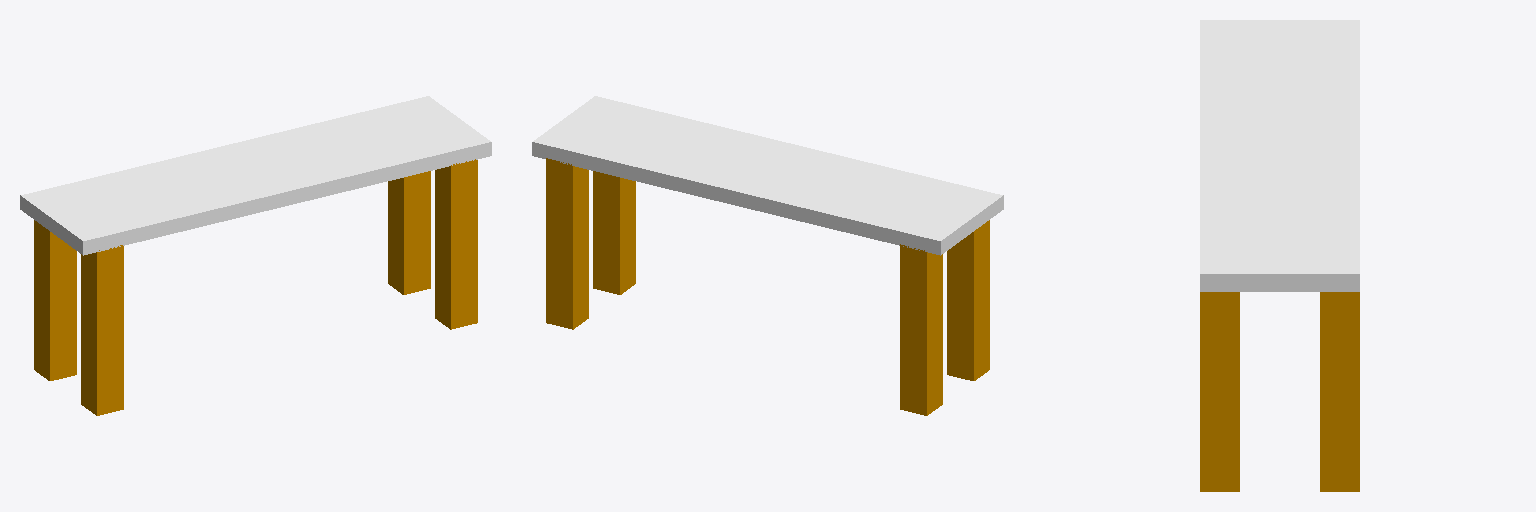
The robot description file, URDF, robot "narrow_table.urdf":
<?xml version="0.0" ?>
<robot name="narrow_table.urdf">
  <link name="baseLink">
    <contact>
      <lateral_friction value="1.0"/>
    </contact>
    <inertial>
      <origin rpy="0 0 0" xyz="0 0 0"/>
      <mass value=".0"/>
      <inertia ixx="1" ixy="0" ixz="0" iyy="1" iyz="0" izz="1"/>
    </inertial>
    <visual>
      <origin rpy="0 0 0" xyz="0 0 0.6"/>
      <geometry>
        <mesh filename="narrow_table.obj" scale="1.5 0.4 0.05"/>
      </geometry>
      <material name="white">
        <color rgba="1 1 1 1"/>
      </material>
    </visual>
    <collision>
      <origin rpy="0 0 0" xyz="0 0 0.6"/>
      <geometry>
        <box size="1.5 0.4 0.05"/>
      </geometry>
    </collision>
    <visual>
      <origin rpy="0 0 0" xyz="-0.65 -0.15 0.29"/>
      <geometry>
        <mesh filename="narrow_table.obj" scale="0.1 0.1 0.58"/>
      </geometry>
      <material name="framemat0"/>
    </visual>
    <visual>
      <origin rpy="0 0 0" xyz="-0.65 0.15 0.29"/>
      <geometry>
        <mesh filename="narrow_table.obj" scale="0.1 0.1 0.58"/>
      </geometry>
      <material name="framemat0"/>
    </visual>
    <visual>
      <origin rpy="0 0 0" xyz="0.65 -0.15 0.29"/>
      <geometry>
        <mesh filename="narrow_table.obj" scale="0.1 0.1 0.58"/>
      </geometry>
      <material name="framemat0"/>
    </visual>
    <visual>
      <origin rpy="0 0 0" xyz="0.65 0.15 0.29"/>
      <geometry>
        <mesh filename="narrow_table.obj" scale="0.1 0.1 0.58"/>
      </geometry>
    </visual>
  </link>
</robot>

--- Facts derived from the render (not from the file) ---
3 views of the same robot in one strip: view 1: azimuth 30°, elevation 25°; view 2: azimuth 150°, elevation 25°; view 3: azimuth 270°, elevation 25° (orthographic).
Robot: narrow_table.urdf — 1 links, 0 joints (none); root link baseLink; default pose: all joints at 0.
Links seen in each view (by area): view 1: baseLink; view 2: baseLink; view 3: baseLink.
Link boxes in pixels (left/top/right/bottom): baseLink: left=20, top=96, right=491, bottom=415; baseLink: left=532, top=96, right=1003, bottom=415; baseLink: left=1200, top=20, right=1359, bottom=491.
Size in the robot's own frame: 1.5 by 0.4 by 0.625 metres.
Meshes: 1 distinct files referenced, 5 mesh visuals loaded (1 OBJ).